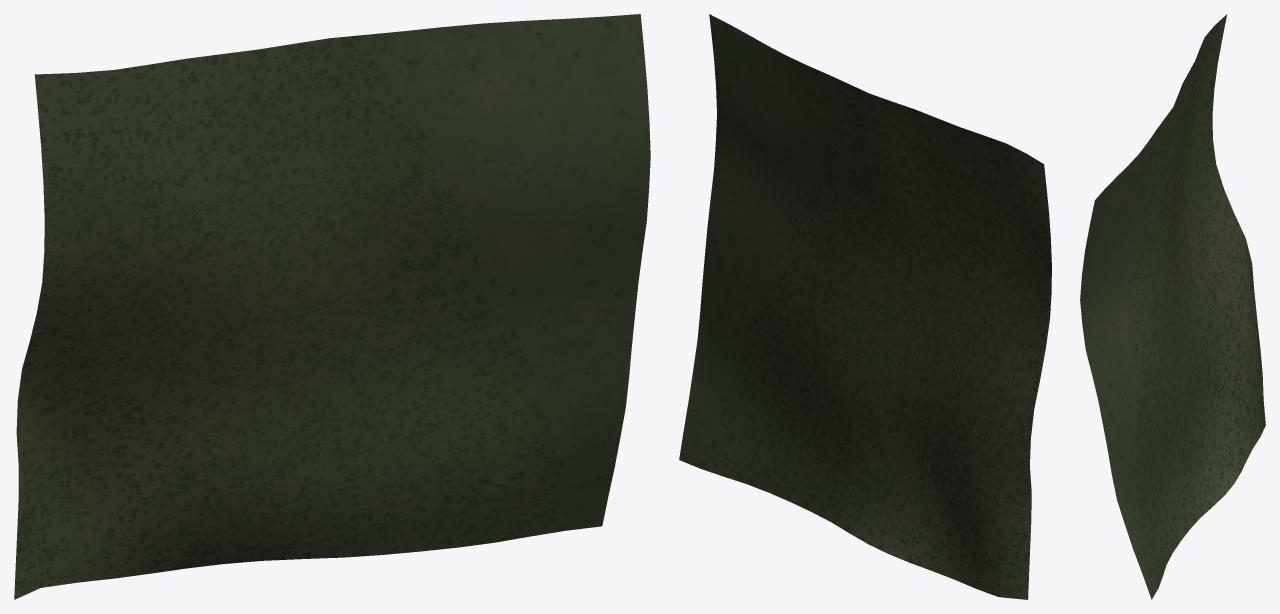
Rendered from terrain_mid_07_05.obj.
3 renders of one model, left to right at view 1: azimuth 30°, elevation 25°; view 2: azimuth 150°, elevation 25°; view 3: azimuth 270°, elevation 25°, orthographic. The views are drawn at different scales.
Parts seen in each view (by area): view 1: terrain_mid_07_05; view 2: terrain_mid_07_05; view 3: terrain_mid_07_05.
Boxes of the visible parts, x1,y1,x2,y2 form: terrain_mid_07_05: (14, 14, 650, 599); terrain_mid_07_05: (679, 14, 1051, 599); terrain_mid_07_05: (1080, 14, 1265, 599).
Bounding box in the file's own units: 320 × 320 × 135.
1 material, 1 textured.
